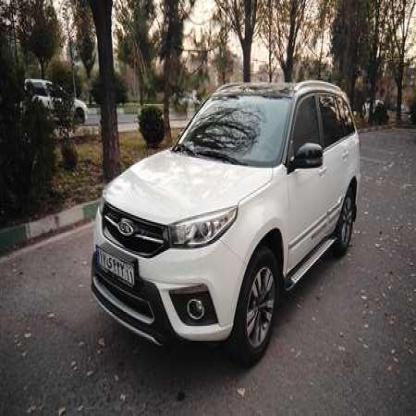Car: (89, 84, 361, 358), (13, 68, 88, 122)
